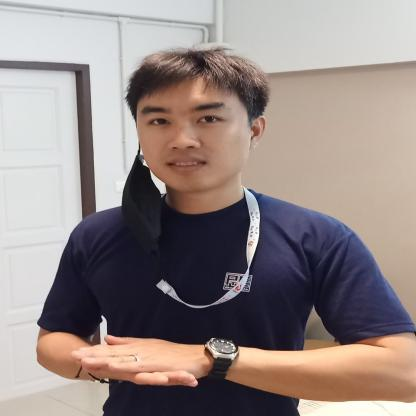Love: (55, 316, 286, 406)
